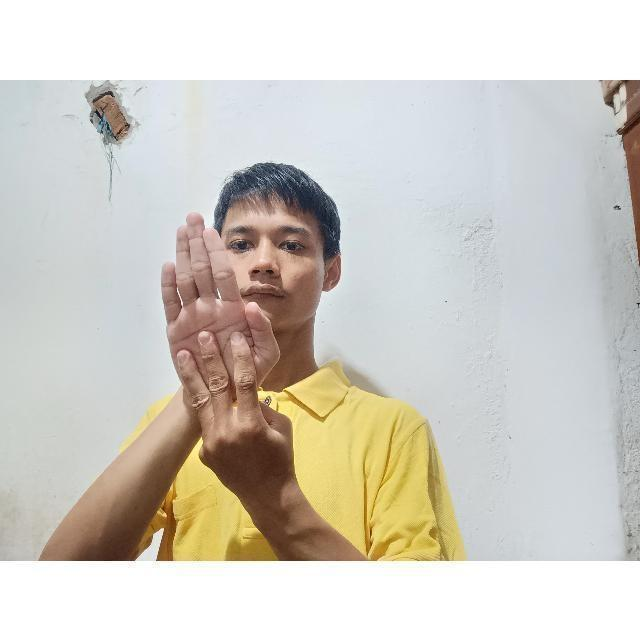M: (146, 212, 290, 462)
